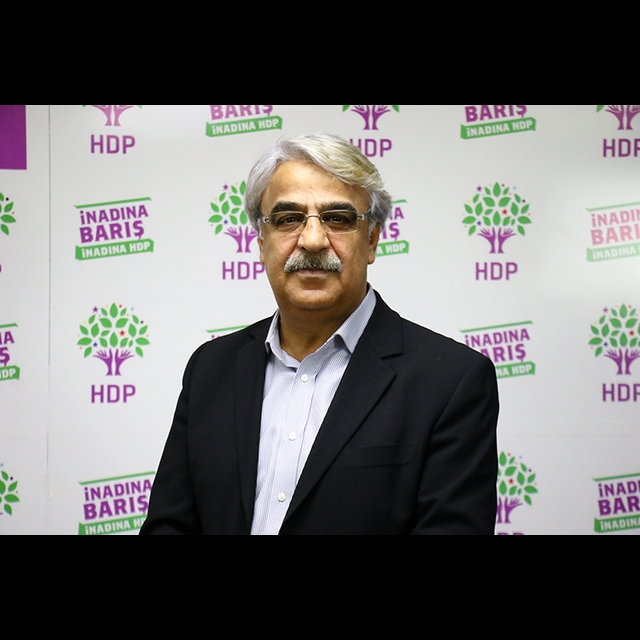HDP: (74, 298, 156, 378), (458, 180, 531, 258)
